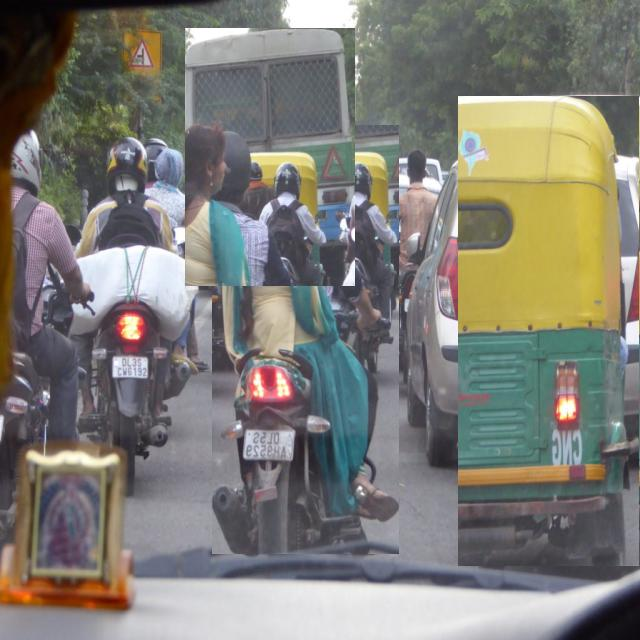autorickshaw: (459, 96, 639, 566)
bus: (185, 28, 355, 286)
car: (408, 157, 482, 466)
motorcycle: (212, 125, 399, 554), (71, 138, 196, 494)
